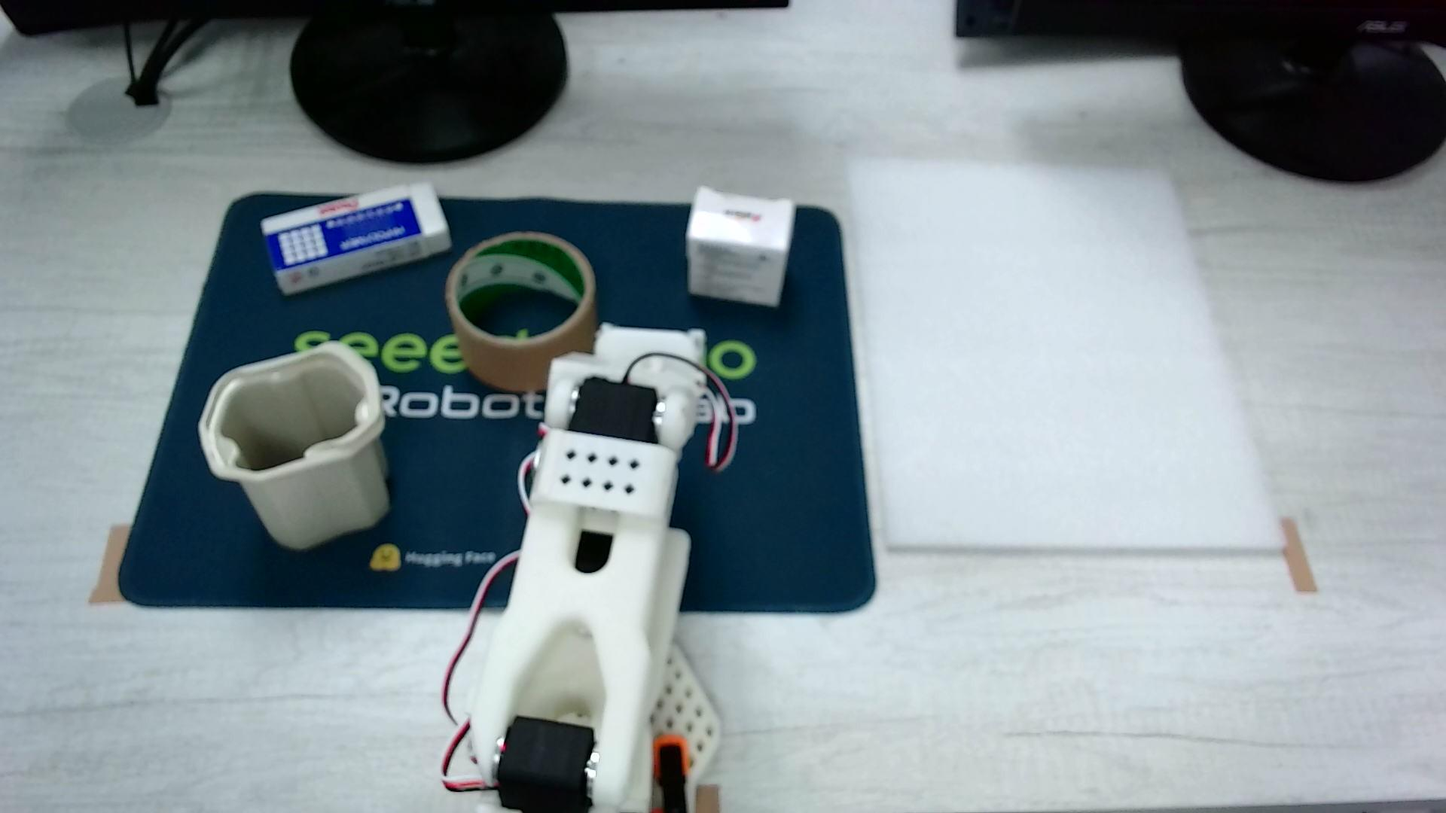eraser: (686, 187, 795, 306)
